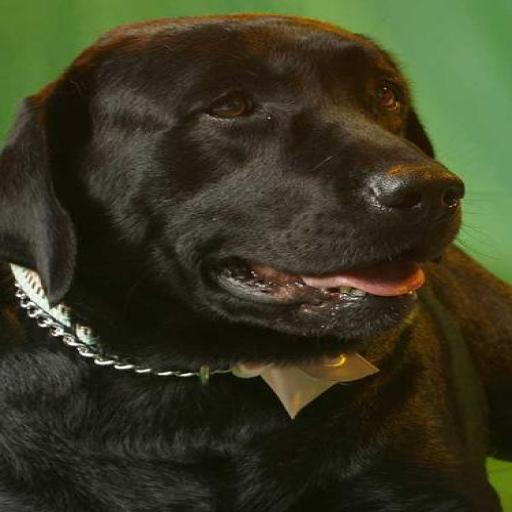dog_face: (7, 9, 452, 337)
